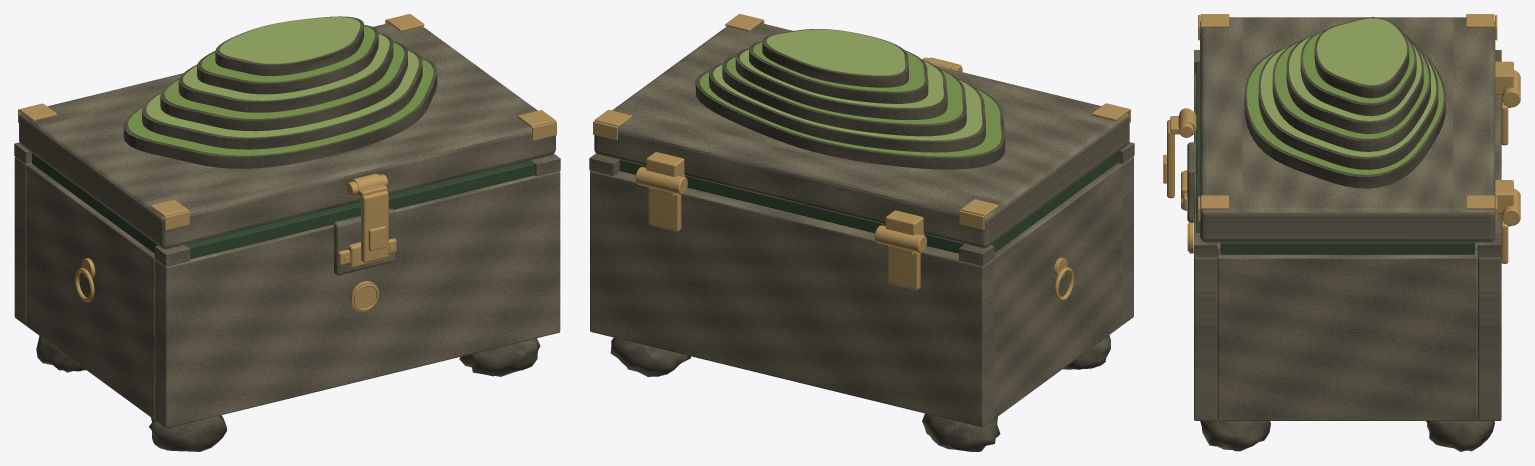
The model's file is philippines.glb.
3 renders of one model, left to right at view 1: azimuth 30°, elevation 25°; view 2: azimuth 150°, elevation 25°; view 3: azimuth 270°, elevation 25°, orthographic.
Parts seen in each view (by area): view 1: Stone / front rear, Lid / polished slab, Stone / side, Mineral seam / long, Paddy / field 5, Terrace / retaining 0, Terrace / retaining 1, Terrace / retaining 2, Paddy / field 0, Terrace / retaining 3, Paddy / field 1, Terrace / retaining 4 (+13 smaller); view 2: Stone / front rear.001, Lid / polished slab, Stone / side, Paddy / field 5, Terrace / retaining 0, Terrace / retaining 1, Terrace / retaining 2, Mineral seam / long.001, Terrace / retaining 3, Terrace / retaining 4, Paddy / field 0, Terrace / retaining 5 (+17 smaller); view 3: Stone / side.001, Lid / polished slab, Paddy / field 5, Stone / front rear.001, Stone / front rear, Mineral seam / side.001, Terrace / retaining 0, Terrace / retaining 1, Terrace / retaining 2, Paddy / field 0, Terrace / retaining 3, Paddy / field 1 (+20 smaller).
Boxes of the visible parts, bbox=[...] form: Stone / front rear: bbox=[155, 171, 560, 428]; Lid / polished slab: bbox=[19, 23, 555, 248]; Stone / side: bbox=[26, 163, 155, 419]; Mineral seam / long: bbox=[184, 160, 535, 258]; Paddy / field 5: bbox=[219, 17, 360, 64]; Terrace / retaining 0: bbox=[123, 57, 437, 168]; Terrace / retaining 1: bbox=[142, 49, 422, 149]; Terrace / retaining 2: bbox=[160, 41, 407, 131]; Paddy / field 0: bbox=[127, 59, 433, 156]; Terrace / retaining 3: bbox=[178, 33, 393, 112]; Paddy / field 1: bbox=[146, 51, 418, 137]; Terrace / retaining 4: bbox=[197, 24, 378, 94]; Stone / front rear.001: bbox=[590, 170, 993, 427]; Lid / polished slab: bbox=[594, 23, 1129, 248]; Stone / side: bbox=[993, 163, 1122, 418]; Paddy / field 5: bbox=[766, 29, 905, 75]; Terrace / retaining 0: bbox=[695, 70, 1005, 169]; Terrace / retaining 1: bbox=[709, 62, 985, 152]; Terrace / retaining 2: bbox=[722, 55, 966, 136]; Mineral seam / long.001: bbox=[619, 160, 964, 253]; Terrace / retaining 3: bbox=[735, 48, 947, 119]; Terrace / retaining 4: bbox=[749, 41, 928, 103]; Paddy / field 0: bbox=[700, 72, 1001, 156]; Terrace / retaining 5: bbox=[762, 29, 908, 87]; Stone / side.001: bbox=[1217, 249, 1477, 420]; Lid / polished slab: bbox=[1200, 17, 1495, 242]; Paddy / field 5: bbox=[1317, 18, 1406, 85]; Stone / front rear.001: bbox=[1478, 95, 1501, 420]; Stone / front rear: bbox=[1194, 74, 1217, 420]; Mineral seam / side.001: bbox=[1220, 242, 1474, 254]; Terrace / retaining 0: bbox=[1244, 47, 1445, 188]; Terrace / retaining 1: bbox=[1258, 43, 1438, 169]; Terrace / retaining 2: bbox=[1272, 38, 1430, 151]; Paddy / field 0: bbox=[1246, 52, 1443, 175]; Terrace / retaining 3: bbox=[1286, 34, 1423, 133]; Paddy / field 1: bbox=[1260, 47, 1436, 157].
Size of the model in its own units: 3.79 by 2.89 by 2.88.
Materials: 6 (2 with a texture image).
